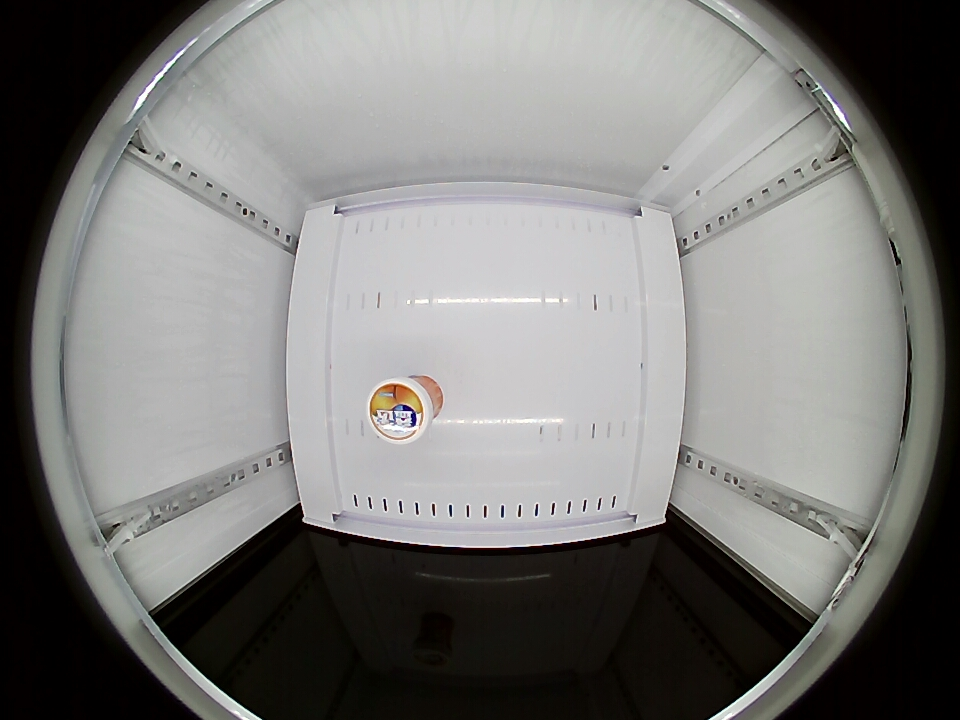yida: (367, 376, 440, 445)
